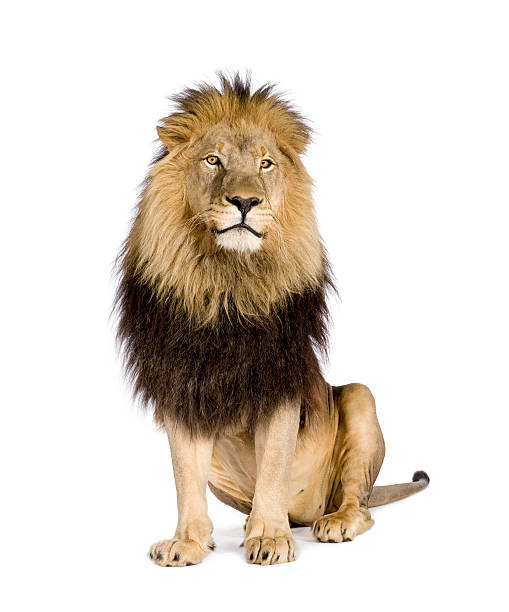lion: (76, 49, 380, 462)
